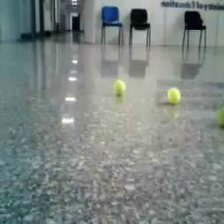tennis: (167, 88, 181, 105), (113, 80, 125, 95)
